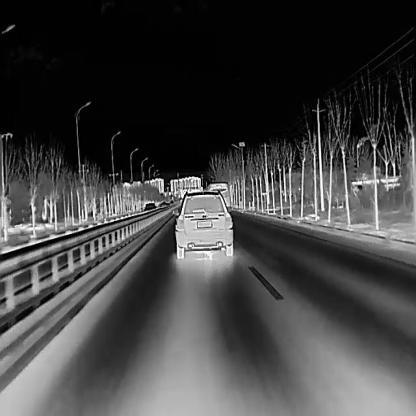car: (171, 188, 233, 259), (206, 181, 230, 210), (143, 201, 157, 216)
